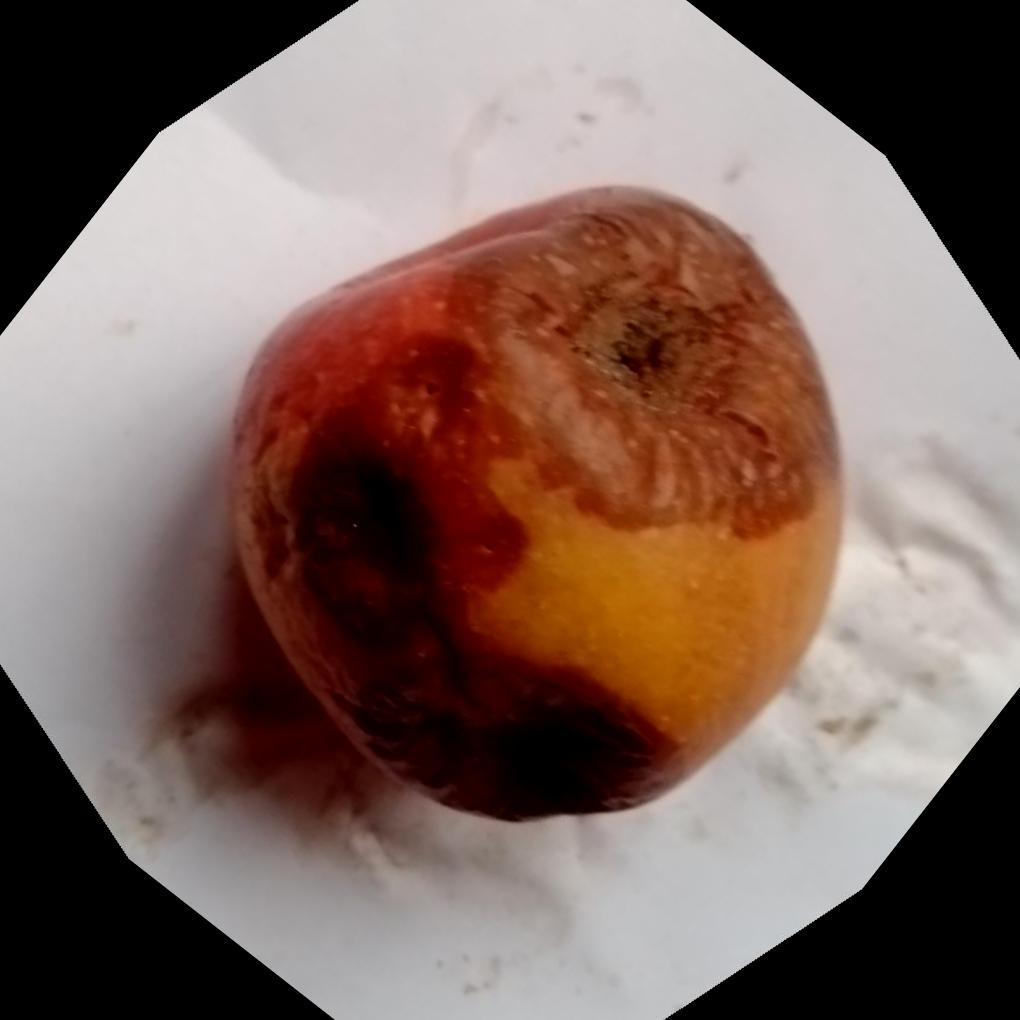FreshOrange: (221, 183, 848, 826)
